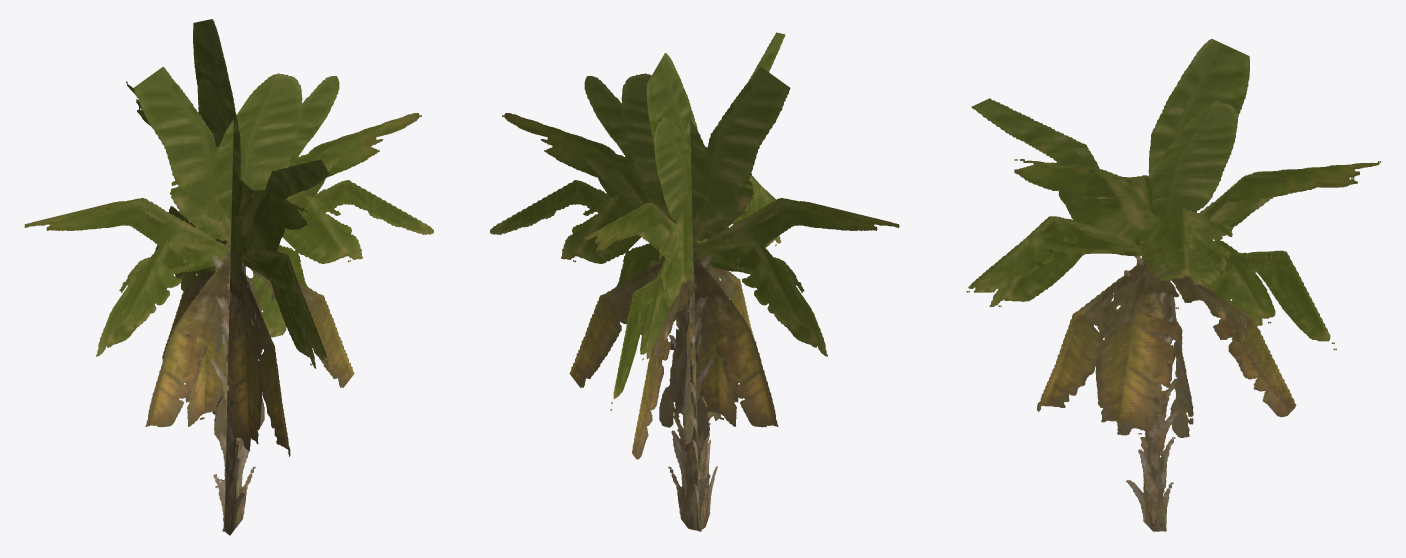
File: BananaTree_LOD5.fbx
The picture shows the model from 3 angles, left to right: view 1: azimuth 30°, elevation 25°; view 2: azimuth 150°, elevation 25°; view 3: azimuth 270°, elevation 25°; orthographic projection.
Parts seen in each view (by area): view 1: BananaTree Imposter_0; view 2: BananaTree Imposter_0; view 3: BananaTree Imposter_0.
Part boxes in pixels (<box>): BananaTree Imposter_0: <box>24,19,433,535</box>; BananaTree Imposter_0: <box>490,32,899,531</box>; BananaTree Imposter_0: <box>966,39,1380,531</box>.
Bounding box in the file's own units: 305 × 354 × 273.
1 material, 1 textured.
